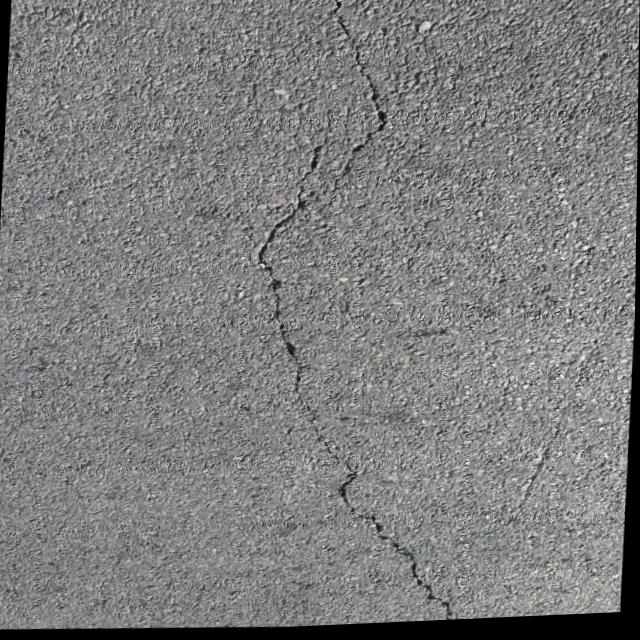Crack: (230, 0, 495, 632)
